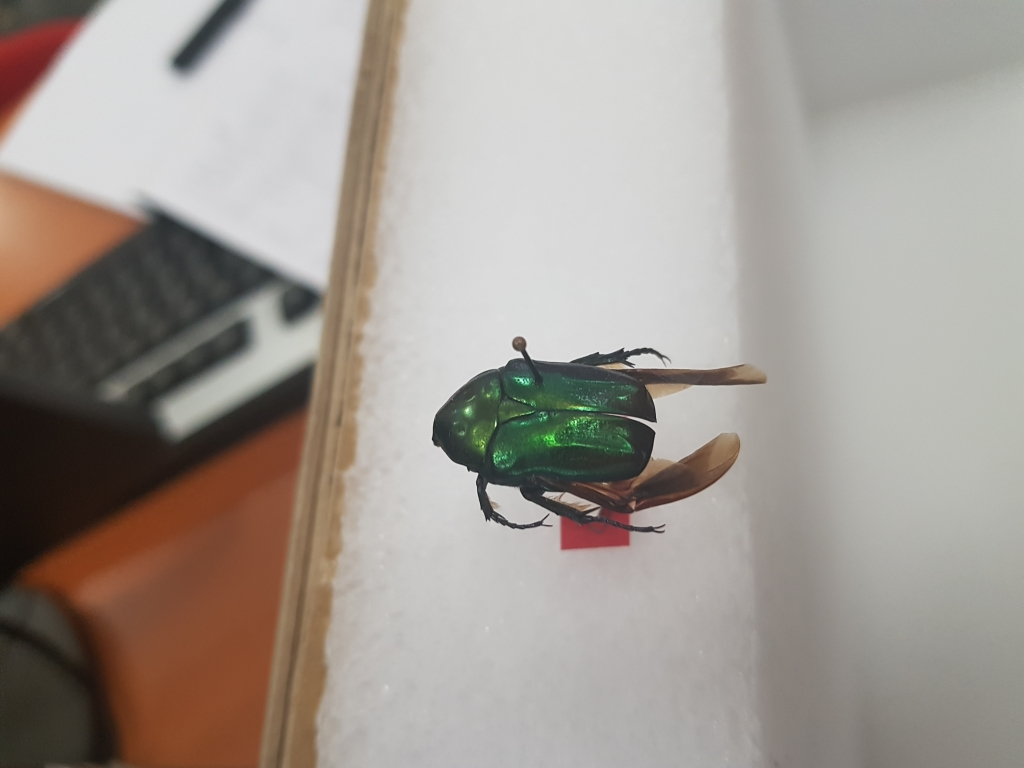Protaetia_besucheti: (420, 333, 766, 539)
